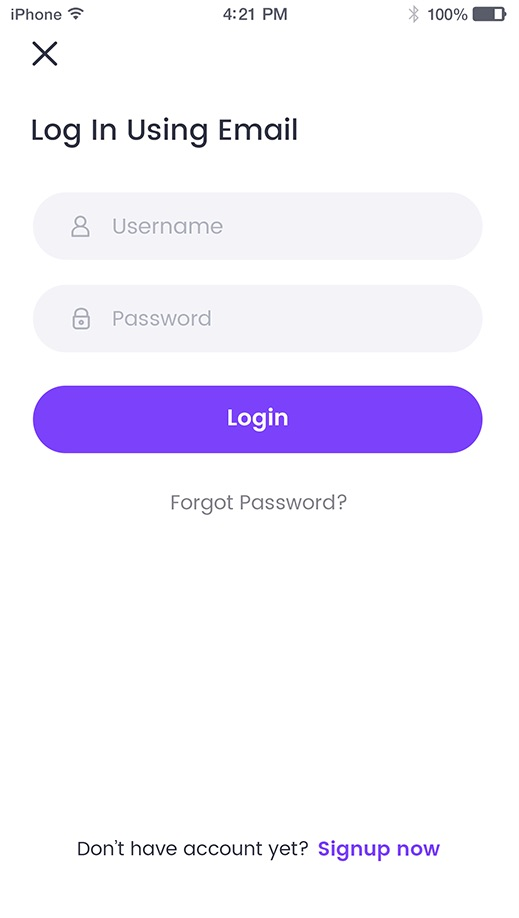EditText: (33, 285, 484, 354), (33, 192, 483, 261)
Icon: (32, 41, 59, 68), (71, 216, 91, 238), (73, 308, 91, 331)
Text: (32, 117, 298, 150), (78, 839, 309, 861), (171, 493, 348, 516), (318, 839, 441, 862), (113, 219, 223, 235), (113, 310, 212, 327)
TextButton: (33, 385, 484, 454)
UpperTaskBar: (1, 1, 519, 25)
